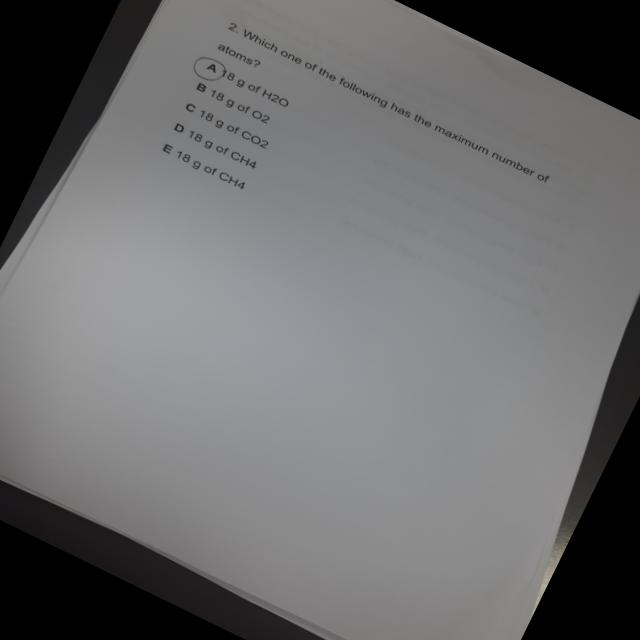A: (187, 51, 233, 91)
